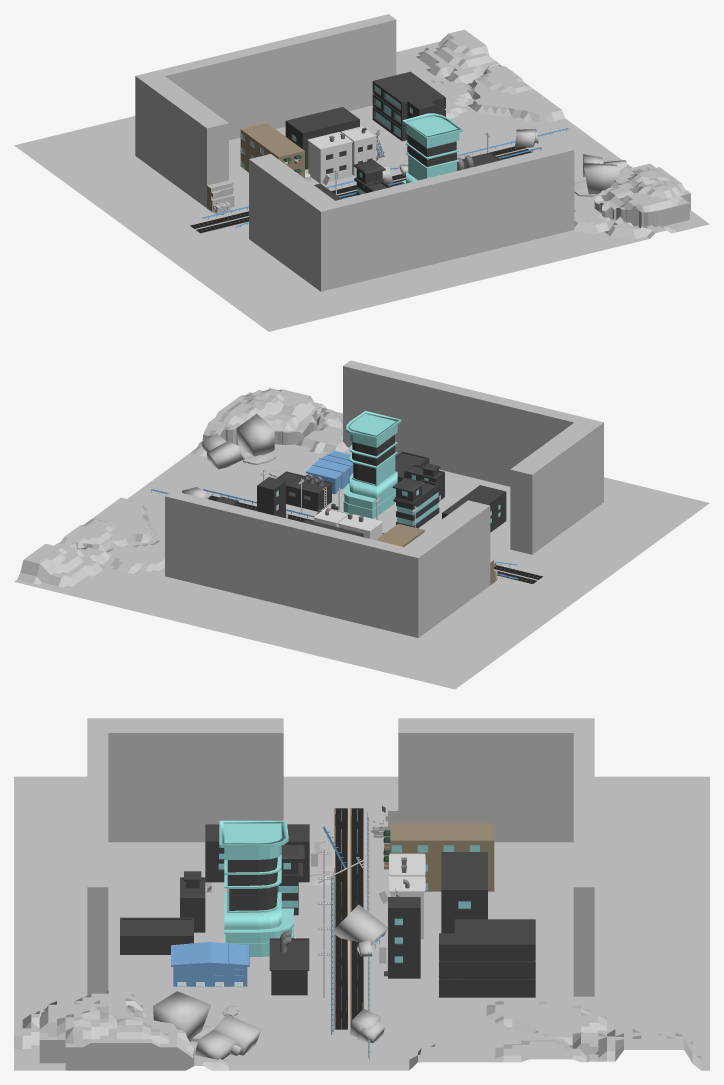
Rendered from town_v4.fbx.
3 views of the same model, one above another, from view 1: azimuth 30°, elevation 25°; view 2: azimuth 150°, elevation 25°; view 3: azimuth 270°, elevation 25° (orthographic). The views are drawn at different scales.
Parts seen in each view (by area): view 1: Cube.013, Plane.016, Cube.014, Cube.012, Cube.001, Cube.002, Cube.004, Cube.003, Cube.025, Cube.010, Plane.001, Plane (+1 smaller); view 2: Plane.016, Cube.013, Cube.014, Cube.010, Cube.009, Cube.025, Cube.008, Cube, Cube.011, Cube.005, Cube.002, Cube.026 (+2 smaller); view 3: Plane.016, Cube.013, Cube.014, Cube.012, Cube.001, Cube.004, Cube.008, Plane, Cube.011, Cube.006, Plane.001, Cube.009 (+9 smaller).
Boxes of the visible parts, x1=… form: Cube.013: x1=135, y1=14, x2=574, y2=291; Plane.016: x1=14, y1=29, x2=709, y2=331; Cube.014: x1=401, y1=113, x2=462, y2=184; Cube.012: x1=372, y1=71, x2=445, y2=141; Cube.001: x1=240, y1=123, x2=304, y2=178; Cube.002: x1=307, y1=132, x2=352, y2=183; Cube.004: x1=285, y1=107, x2=359, y2=169; Cube.003: x1=341, y1=126, x2=377, y2=175; Cube.025: x1=583, y1=163, x2=620, y2=194; Cube.010: x1=353, y1=160, x2=390, y2=195; Plane.001: x1=190, y1=146, x2=526, y2=228; Plane: x1=196, y1=149, x2=531, y2=233; Plane.016: x1=14, y1=388, x2=709, y2=689; Cube.013: x1=165, y1=360, x2=603, y2=637; Cube.014: x1=343, y1=411, x2=401, y2=518; Cube.010: x1=392, y1=477, x2=439, y2=528; Cube.009: x1=277, y1=471, x2=333, y2=511; Cube.025: x1=236, y1=413, x2=274, y2=456; Cube.008: x1=306, y1=450, x2=353, y2=494; Cube: x1=442, y1=485, x2=506, y2=532; Cube.011: x1=257, y1=477, x2=285, y2=518; Cube.005: x1=404, y1=463, x2=444, y2=500; Cube.002: x1=338, y1=514, x2=383, y2=539; Cube.026: x1=207, y1=441, x2=243, y2=469; Plane.016: x1=14, y1=776, x2=709, y2=1070; Cube.013: x1=87, y1=718, x2=594, y2=996; Cube.014: x1=219, y1=820, x2=293, y2=956; Cube.012: x1=439, y1=919, x2=535, y2=997; Cube.001: x1=383, y1=823, x2=494, y2=891; Cube.004: x1=441, y1=852, x2=487, y2=933; Cube.008: x1=171, y1=941, x2=249, y2=986; Plane: x1=334, y1=808, x2=347, y2=1029; Cube.011: x1=384, y1=897, x2=420, y2=978; Cube.006: x1=120, y1=917, x2=193, y2=954; Plane.001: x1=350, y1=808, x2=363, y2=1027; Cube.009: x1=269, y1=938, x2=309, y2=995.
Bounding box in the file's own units: 13287 × 2587 × 13287.
